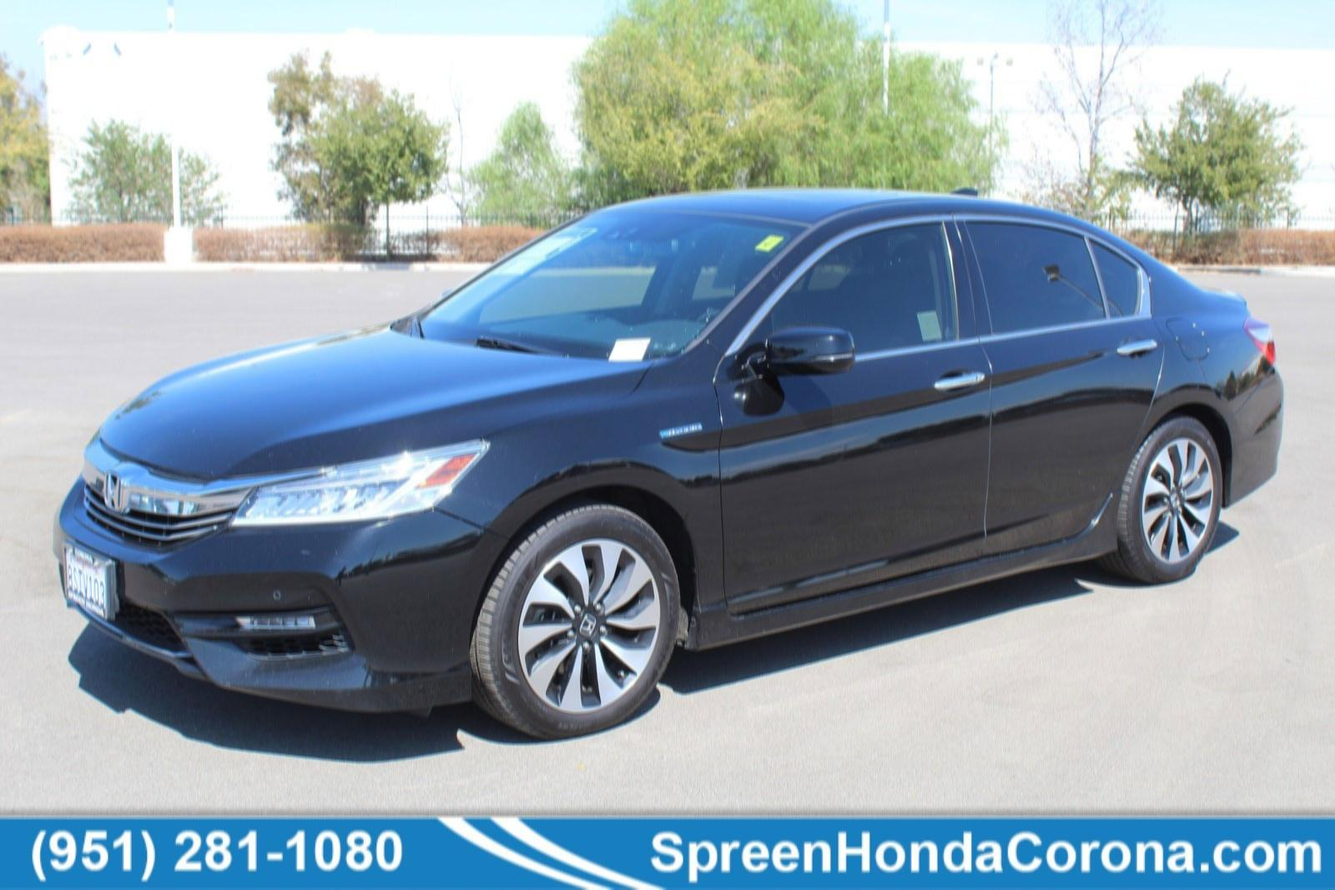Car hood: (96, 316, 656, 477)
Fender - -F-L-: (436, 330, 748, 610)
Fender - -R-L-: (1128, 265, 1266, 488)
Front bumper: (44, 475, 516, 708)
Headlight - -L-: (227, 437, 499, 526)
Passenger-s door - -F-L-: (696, 206, 1003, 658)
Passenger-s door - -R-L-: (957, 192, 1164, 598)
Rear bumper: (1221, 376, 1296, 513)
Rear light - -L-: (1236, 314, 1284, 368)
Side bumper - -L-: (690, 473, 1132, 703)
Side mirror - -L-: (723, 327, 855, 385)
